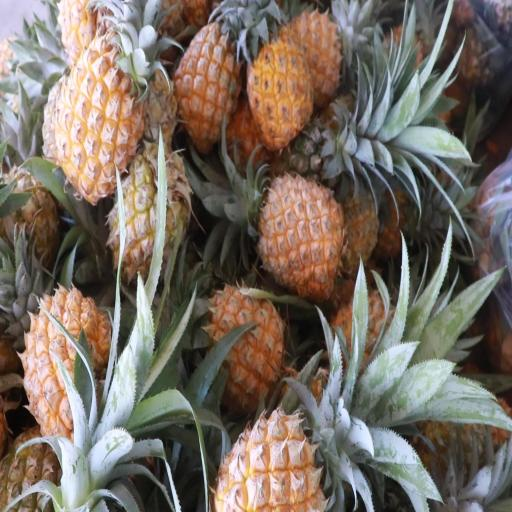------------------------------: (112, 151, 189, 280)
Pineapple - v8 v1: (58, 38, 144, 196), (27, 289, 111, 444), (213, 404, 327, 512), (256, 176, 341, 291), (206, 286, 288, 398), (174, 17, 243, 139), (249, 37, 314, 146)
